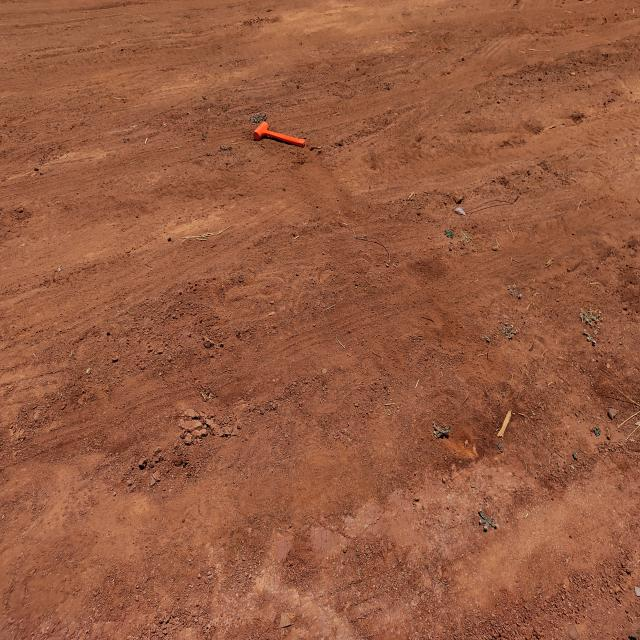Orange_hammer: (253, 120, 306, 148)
